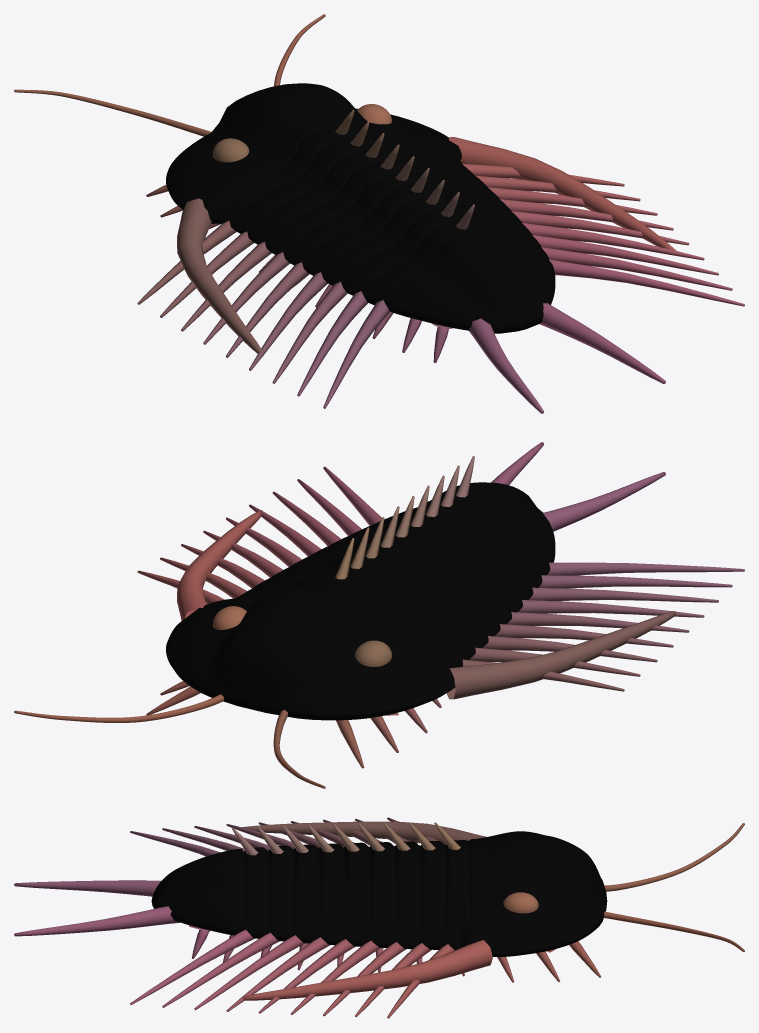
The model's file is trilobite_spiny.glb.
3 renders of one model, top to bottom at view 1: azimuth 30°, elevation 25°; view 2: azimuth 150°, elevation 25°; view 3: azimuth 270°, elevation 25°, orthographic. The views are drawn at different scales.
Parts seen in each view (by area): view 1: trilobite_spiny; view 2: trilobite_spiny; view 3: trilobite_spiny.
Part boxes in pixels (bbox=[...]): trilobite_spiny: bbox=[14, 14, 744, 413]; trilobite_spiny: bbox=[14, 442, 744, 788]; trilobite_spiny: bbox=[14, 817, 744, 1018].
Size of the model in its own units: 0.2072 by 0.0539 by 0.3208.
